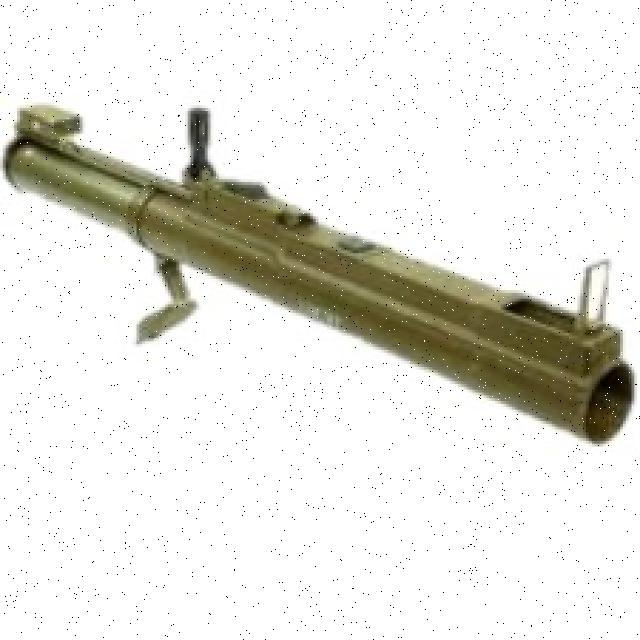bazooka: (1, 75, 640, 456)
